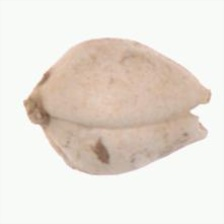L1: (188, 84, 212, 141), (21, 89, 51, 129)
L2: (23, 38, 211, 175)
